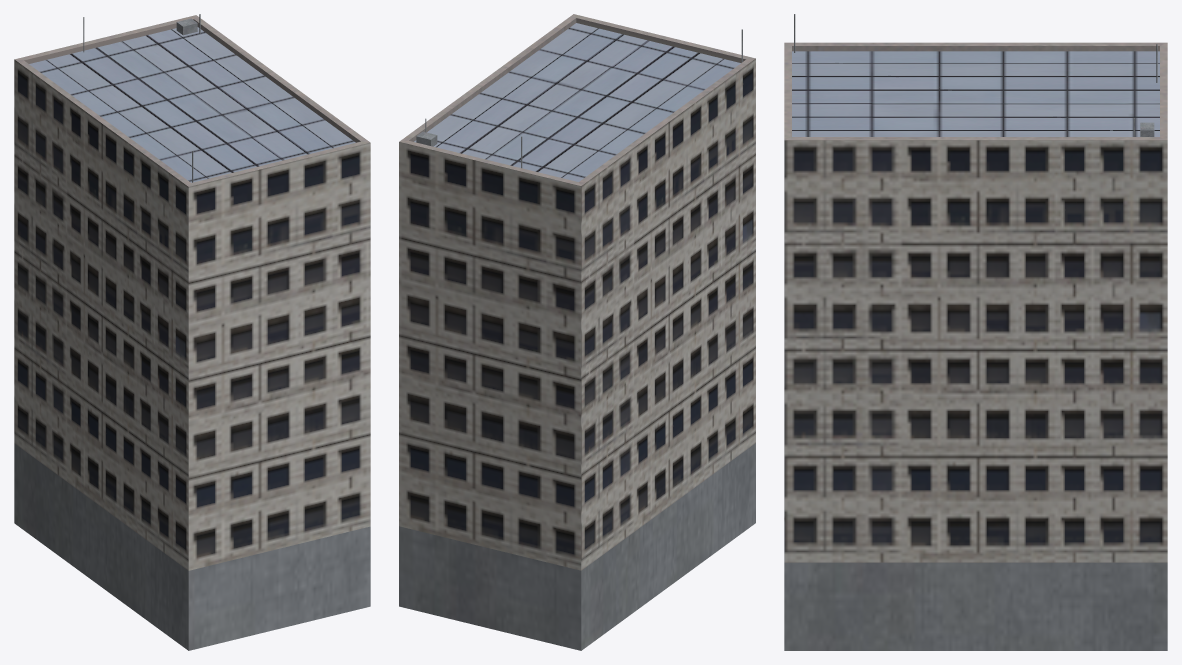
Rendered from Building 2.fbx.
3 renders of one model, left to right at view 1: azimuth 30°, elevation 25°; view 2: azimuth 150°, elevation 25°; view 3: azimuth 270°, elevation 25°, orthographic. The views are drawn at different scales.
Visible parts, largest first — view 1: Building_2; view 2: Building_2; view 3: Building_2.
Boxes of the visible parts, x1,y1,x2,y2 form: Building_2: [14, 14, 370, 650]; Building_2: [399, 14, 755, 650]; Building_2: [784, 14, 1167, 650].
Size of the model in its own units: 998 by 2591 by 1657.
